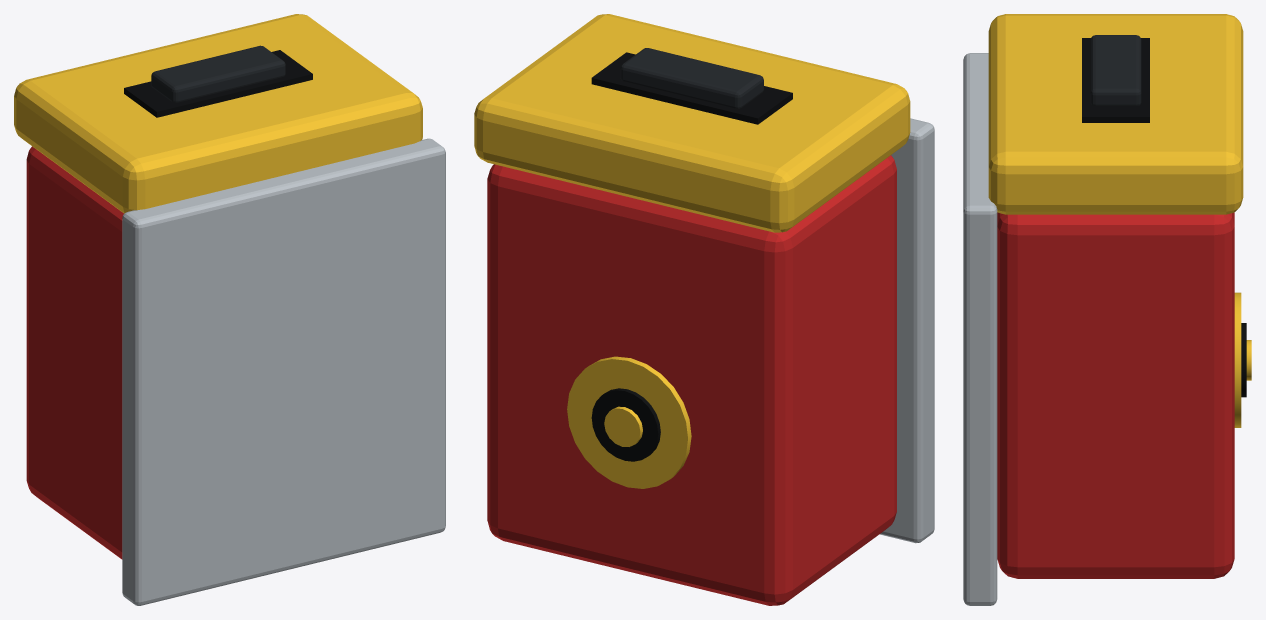
File: Sharps_Container.glb
The picture shows the model from 3 angles, left to right: view 1: azimuth 30°, elevation 25°; view 2: azimuth 150°, elevation 25°; view 3: azimuth 270°, elevation 25°; orthographic projection. The views are drawn at different scales.
Parts seen in each view (by area): view 1: Bracket, Lid, Container, Handle, Slot; view 2: Container, Lid, Bracket, BioDisc, Handle, Slot, BioRing, BioCenter; view 3: Container, Lid, Bracket, Handle, Slot, BioDisc, BioRing.
Boxes of the visible parts, <box> form: Bracket: <box>122,138,445,605</box>; Lid: <box>14,14,422,213</box>; Container: <box>26,146,123,559</box>; Handle: <box>151,45,285,102</box>; Slot: <box>124,50,312,117</box>; Container: <box>487,155,896,605</box>; Lid: <box>474,14,910,232</box>; Bracket: <box>880,118,934,543</box>; BioDisc: <box>567,356,691,488</box>; Handle: <box>620,48,763,108</box>; Slot: <box>591,52,792,124</box>; BioRing: <box>591,388,660,461</box>; BioCenter: <box>604,406,642,446</box>; Container: <box>997,212,1234,578</box>; Lid: <box>988,14,1243,214</box>; Bracket: <box>963,53,997,605</box>; Handle: <box>1090,35,1141,105</box>; Slot: <box>1082,38,1149,122</box>; BioDisc: <box>1234,292,1241,427</box>; BioRing: <box>1241,323,1246,397</box>.
Size of the model in its own units: 0.22 by 0.304 by 0.17.
